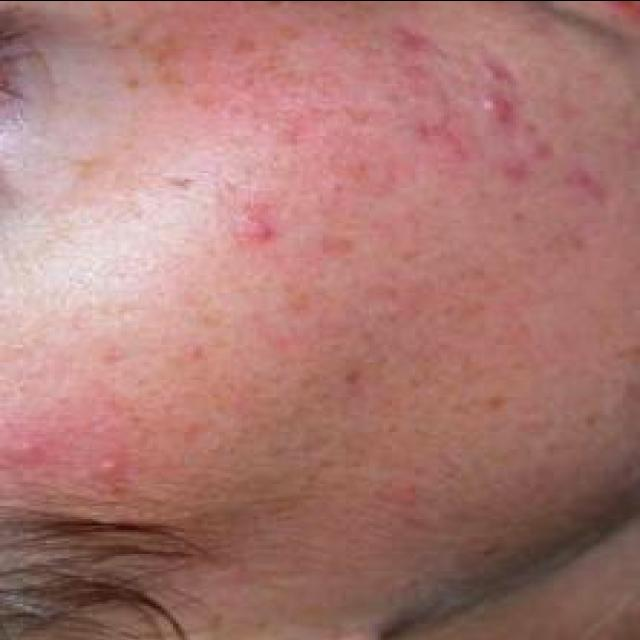Acne: (408, 115, 474, 167), (492, 137, 556, 185), (0, 430, 56, 474), (556, 162, 613, 204), (470, 39, 518, 87), (227, 212, 285, 250), (384, 19, 438, 57), (474, 90, 520, 126), (89, 449, 130, 482)
